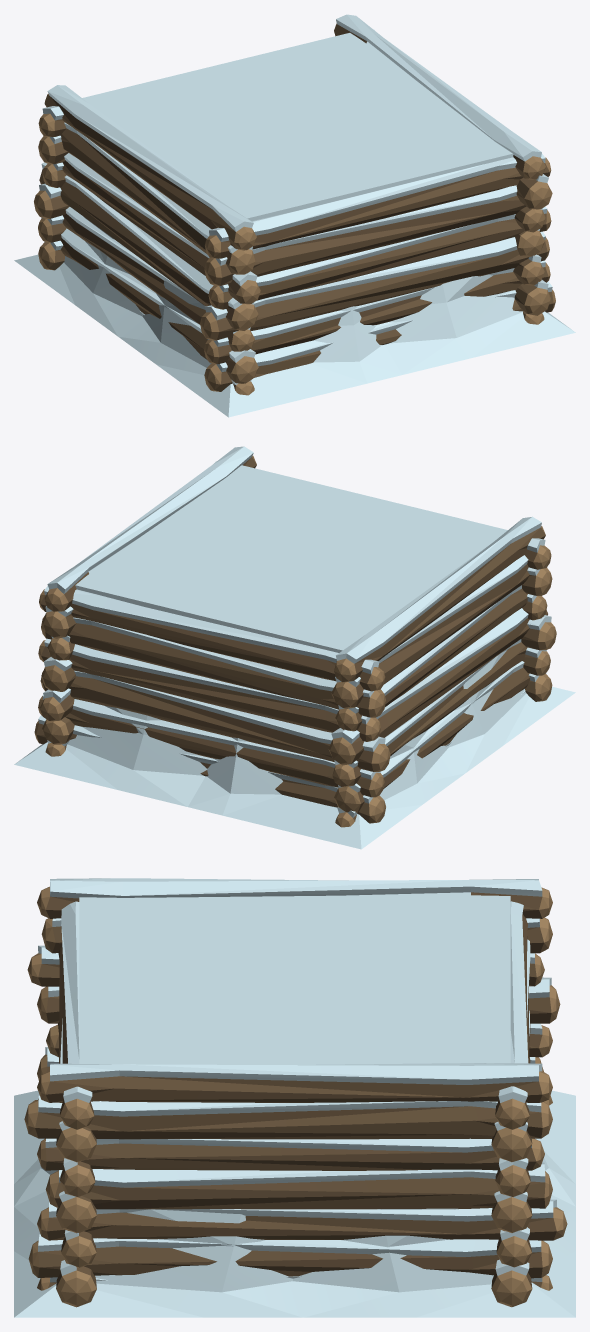
3 renders of one model, top to bottom at view 1: azimuth 30°, elevation 25°; view 2: azimuth 150°, elevation 25°; view 3: azimuth 270°, elevation 25°, orthographic. The views are drawn at different scales.
Parts seen in each view (by area): view 1: SM_Bld_Base_01_Snow; view 2: SM_Bld_Base_01_Snow; view 3: SM_Bld_Base_01_Snow.
Part boxes in pixels (left/top/right/bottom): SM_Bld_Base_01_Snow: left=14, top=14, right=575, bottom=417; SM_Bld_Base_01_Snow: left=14, top=446, right=575, bottom=849; SM_Bld_Base_01_Snow: left=14, top=878, right=575, bottom=1317.
Size of the model in its own units: 4.95 by 2.45 by 5.26.
Materials: 1 (1 with a texture image).
